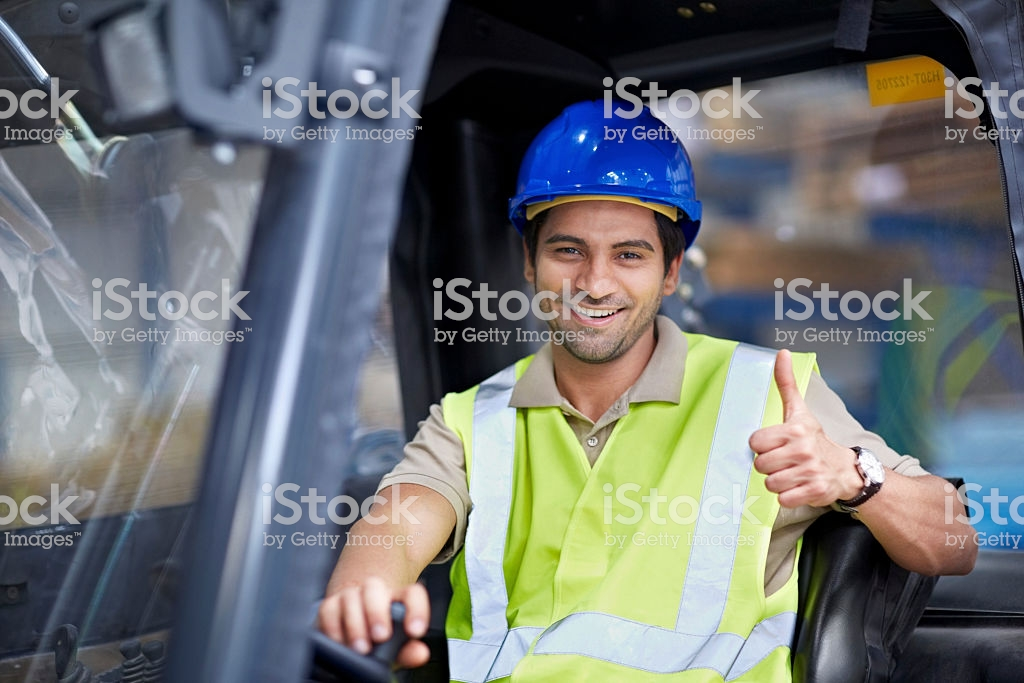thumbsup: (746, 347, 830, 511)
